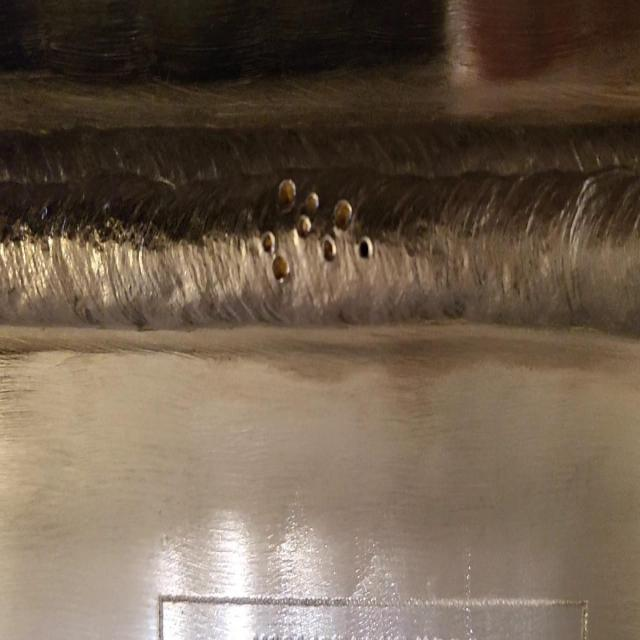Welding Line: (2, 147, 640, 318)
porosity: (262, 177, 374, 283)
